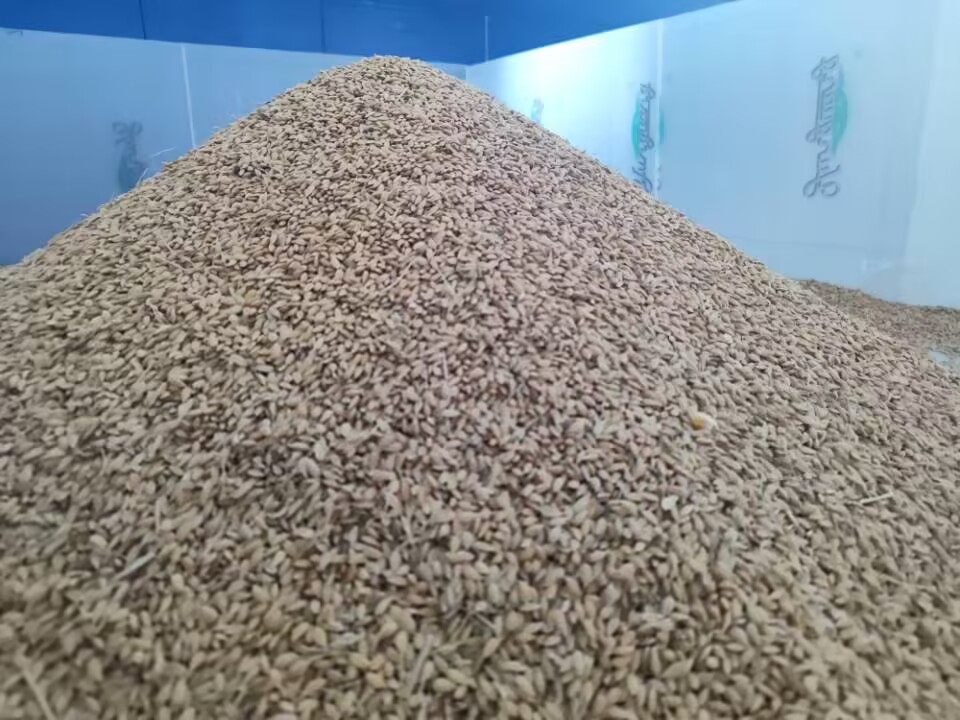Grain: (5, 47, 942, 700)
